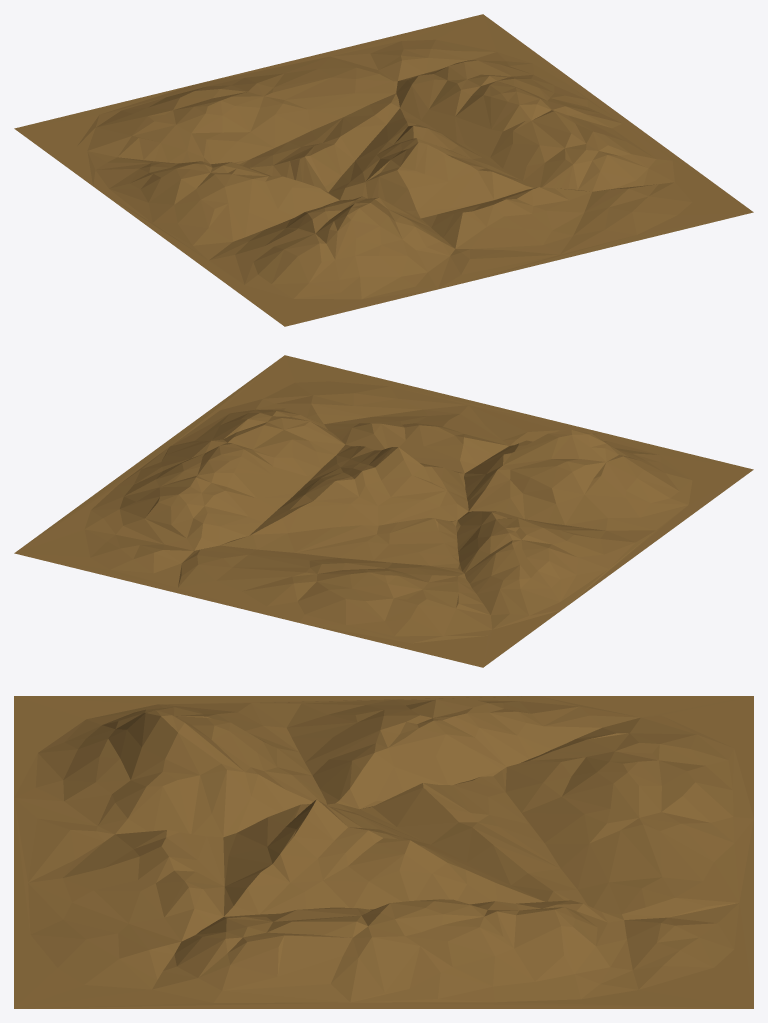
The model's file is Terrain_15.fbx.
3 renders of one model, top to bottom at view 1: azimuth 30°, elevation 25°; view 2: azimuth 150°, elevation 25°; view 3: azimuth 270°, elevation 25°, orthographic. The views are drawn at different scales.
Visible parts, largest first — view 1: Terrain_15; view 2: Terrain_15; view 3: Terrain_15.
Boxes of the visible parts, x1,y1,x2,y2 form: Terrain_15: [14, 14, 753, 326]; Terrain_15: [14, 355, 753, 667]; Terrain_15: [14, 696, 753, 1008].
Bounding box in the file's own units: 20000 × 1955 × 20000.
